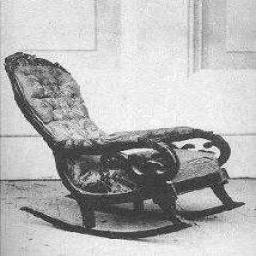Chair: (2, 56, 245, 239)
